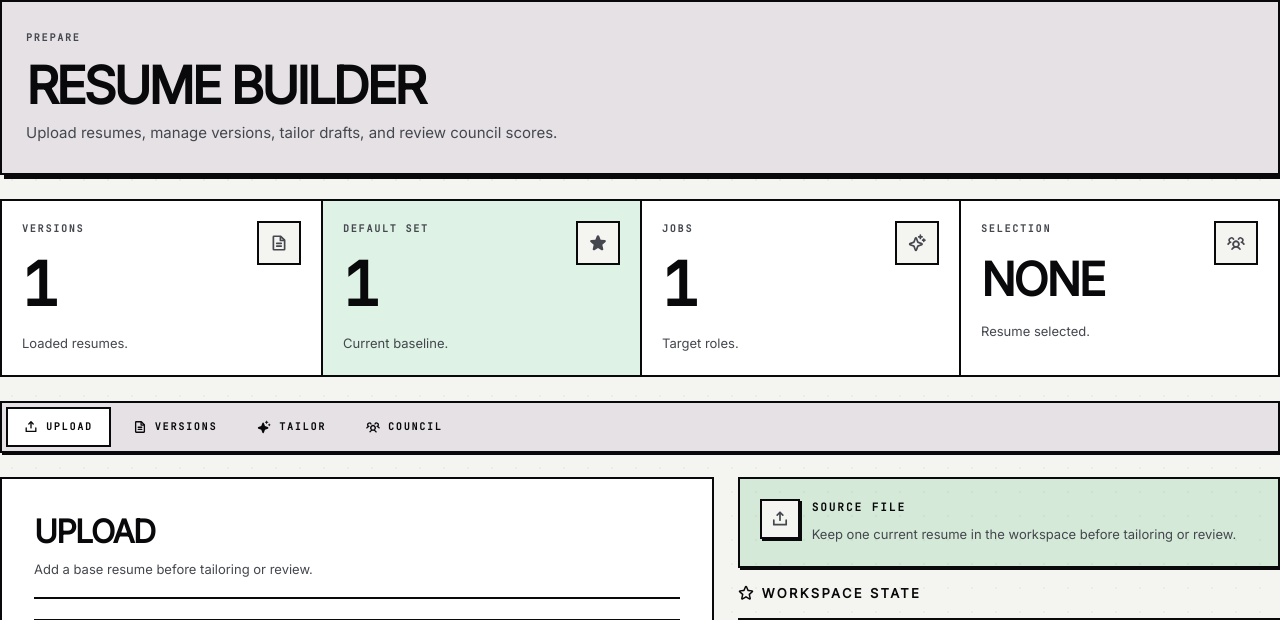
Scenario: ResumeBuilder page › renders the upload surface and shows resume data in the versions tab
Expected: the heading "Resume Builder" is shown, [26,54,424,116]
Click the button "Versions": coordinates (175, 427) [115,407,235,447]
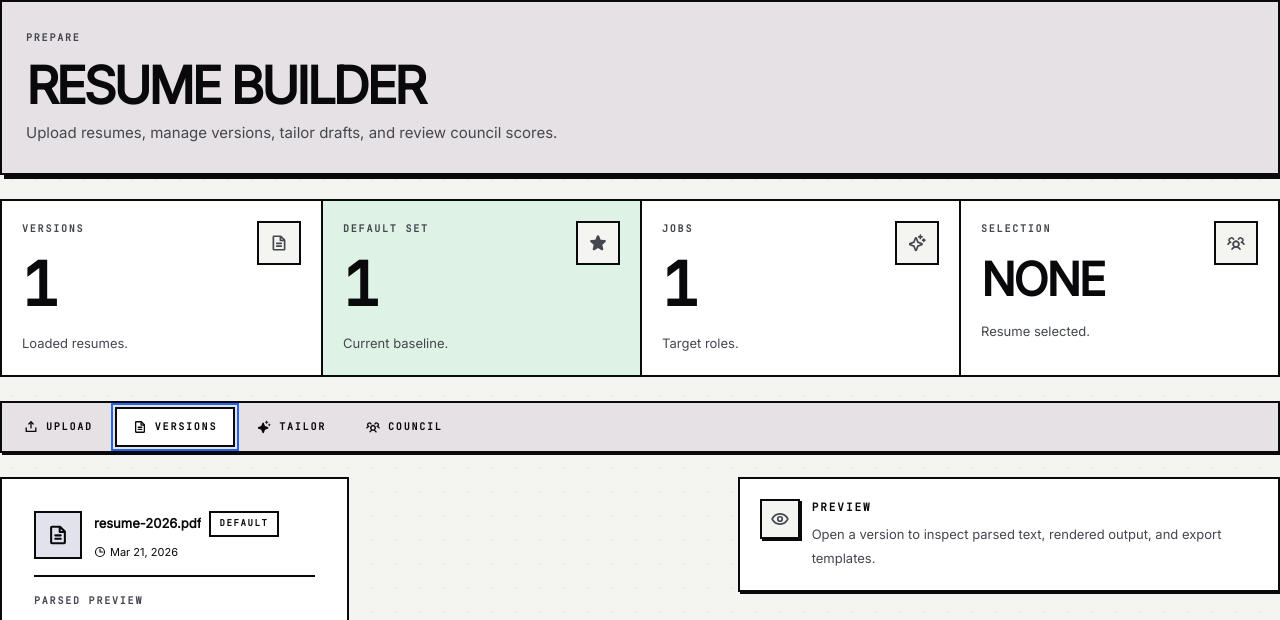
Now the text "resume-2026.pdf" is shown, box [94,514,202,533]
Now the text "Default" is shown, box [210,511,279,537]
